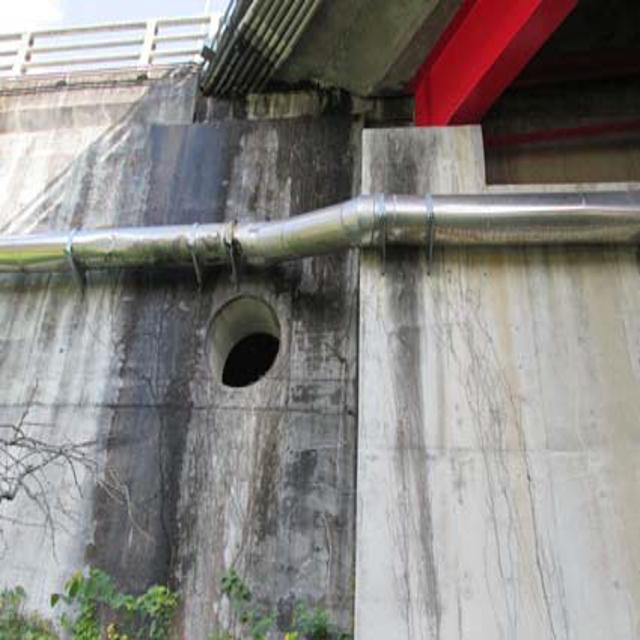leakage: (97, 103, 344, 624)
